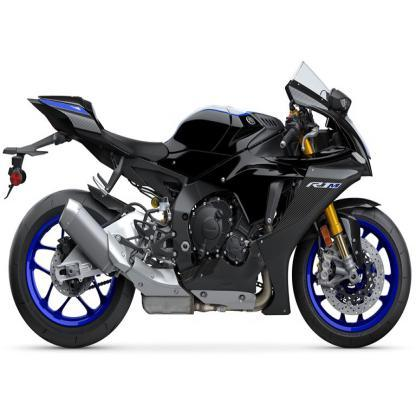Motorcycle: (3, 46, 411, 353)
